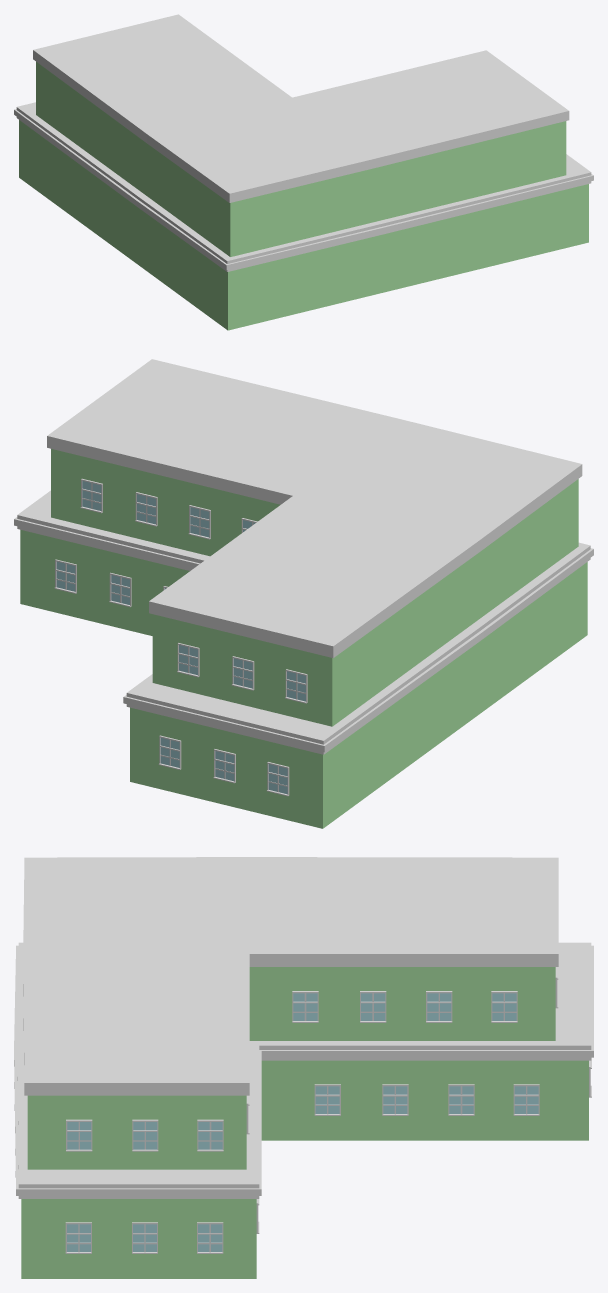
3 views of the same model, one above another, from view 1: azimuth 30°, elevation 25°; view 2: azimuth 150°, elevation 25°; view 3: azimuth 270°, elevation 25° (orthographic). The views are drawn at different scales.
Visible parts, largest first — view 1: Cube; view 2: Cube; view 3: Cube.
Part boxes in pixels (x1,y1,x2,y2): Cube: (14, 14, 593, 330); Cube: (14, 359, 593, 828); Cube: (14, 857, 593, 1278).
Bounding box in the file's own units: 12294 × 4311 × 12322.
